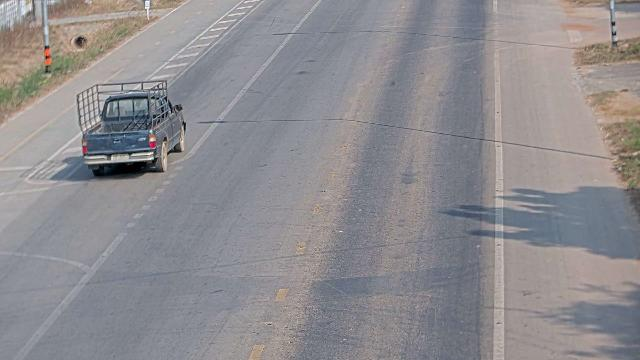pickup-truck: (75, 79, 187, 176)
